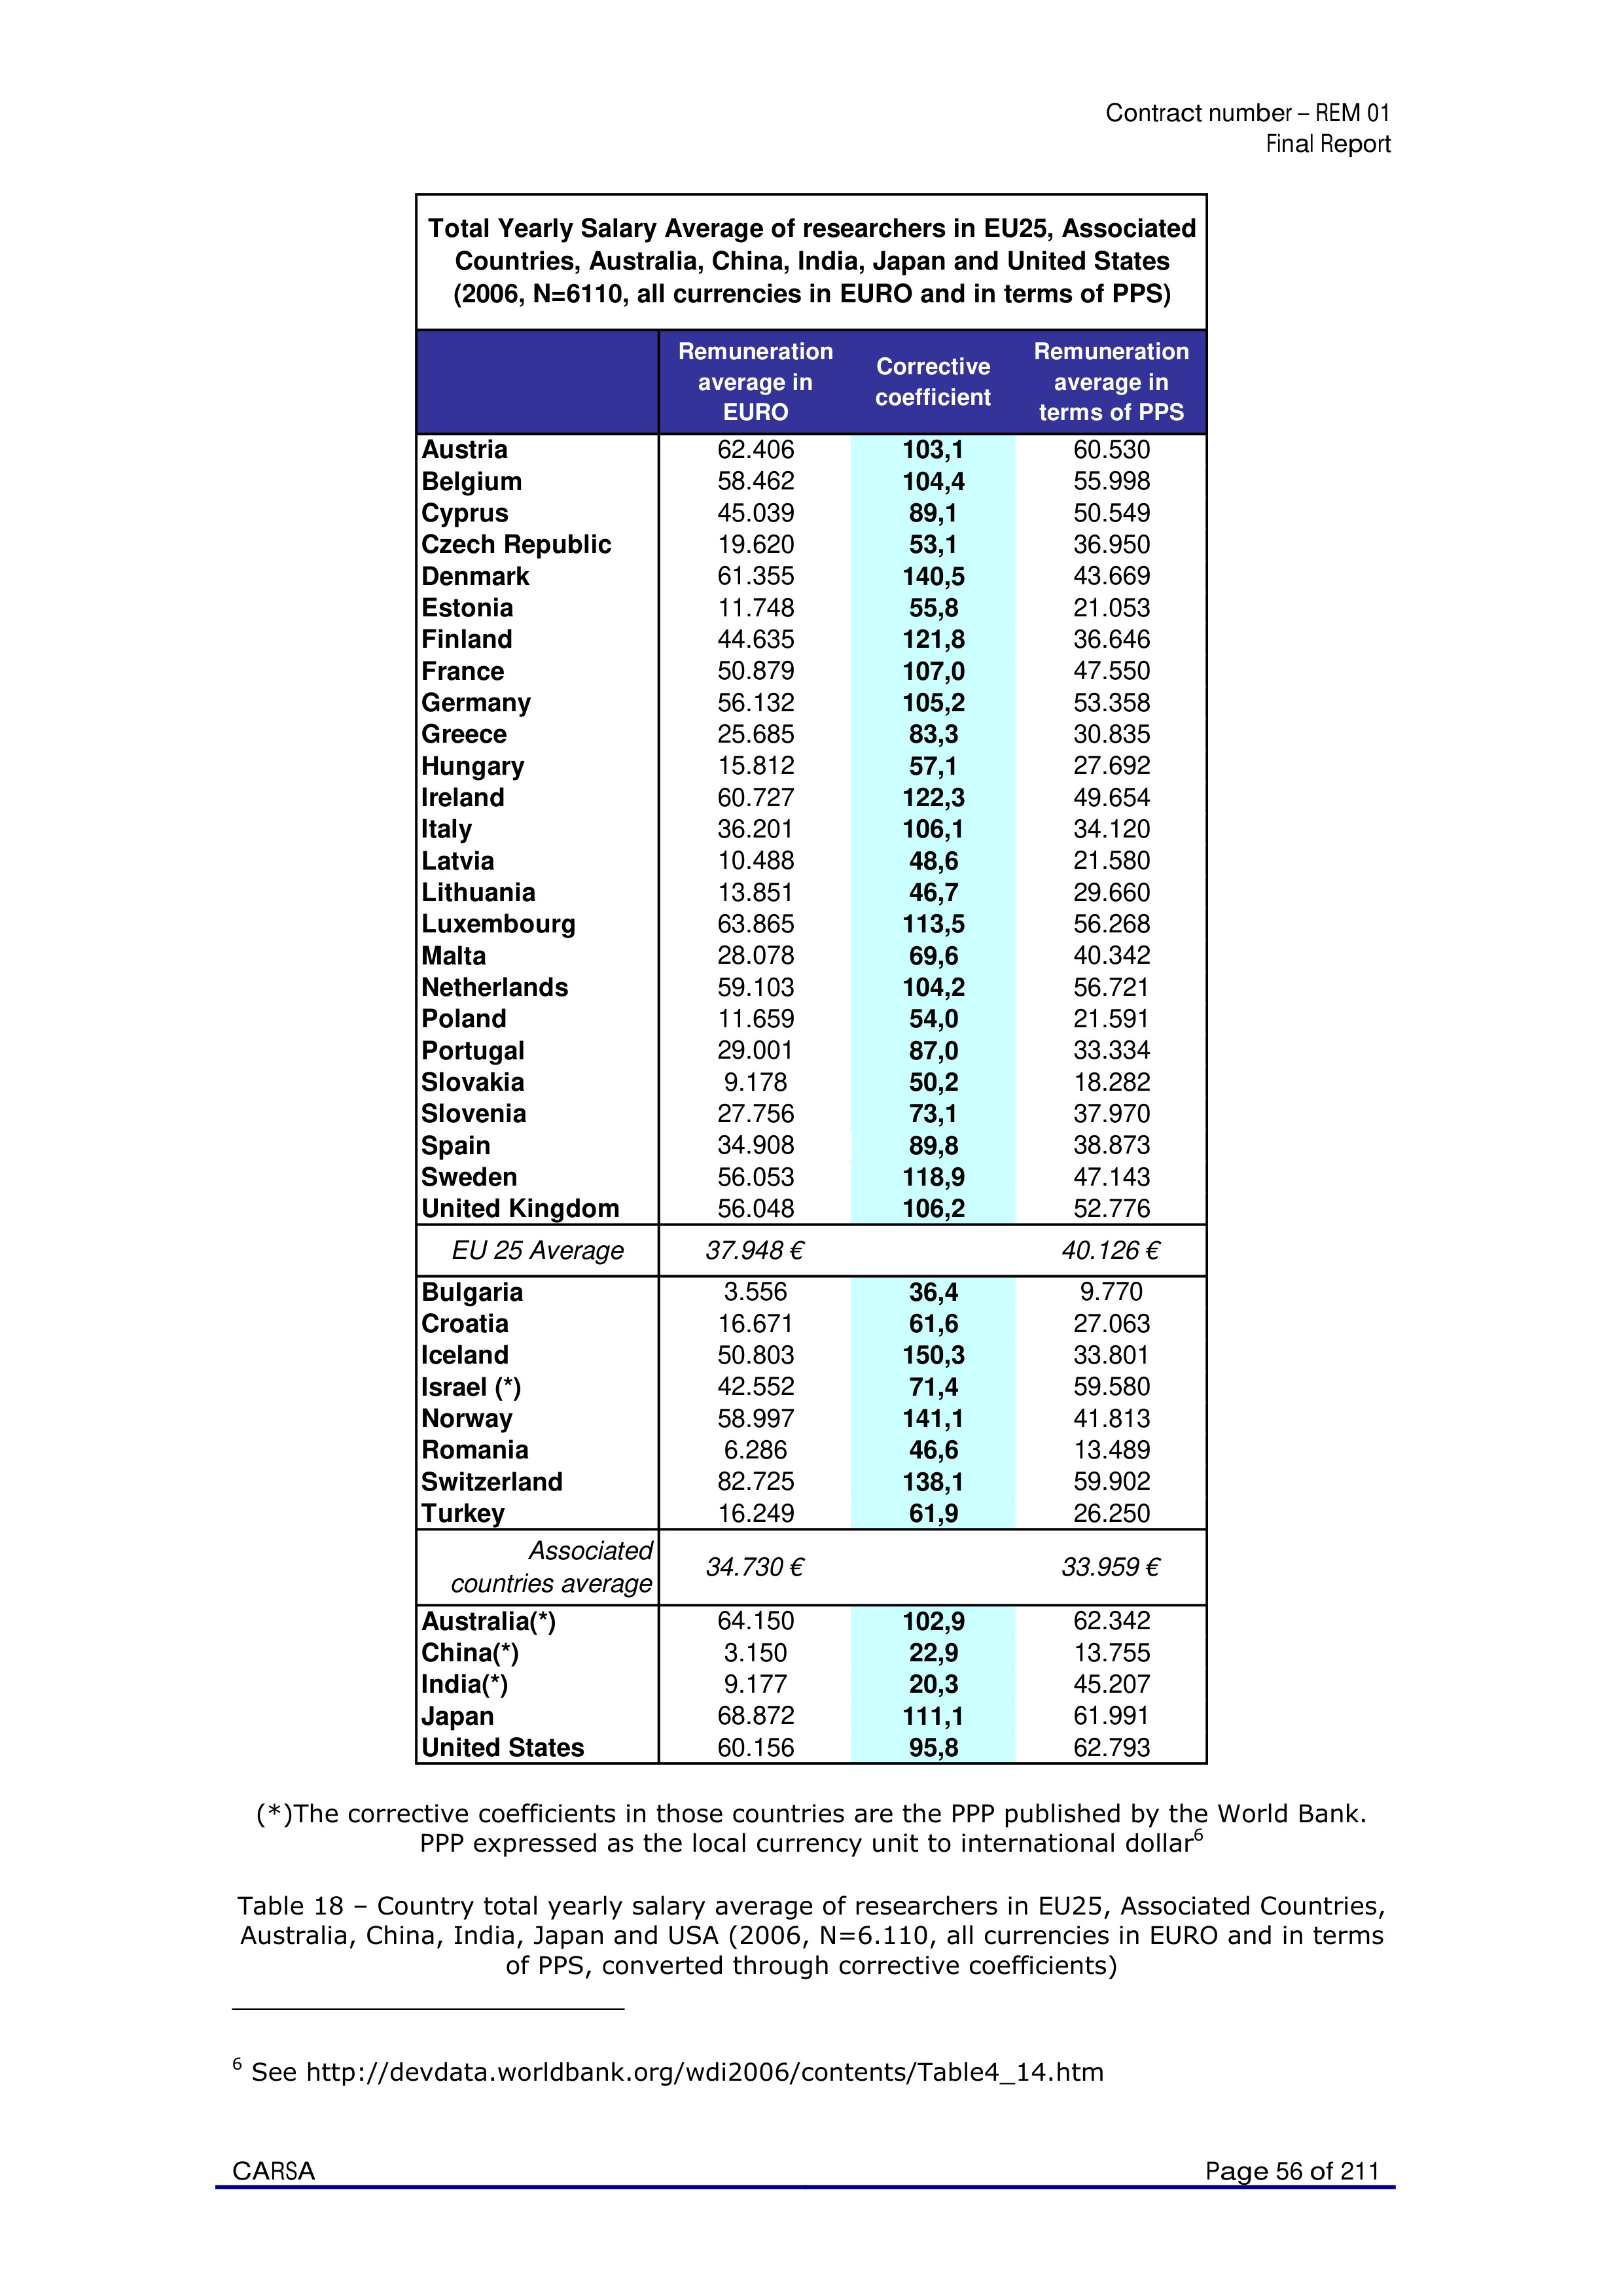table: (422, 334, 1189, 1764)
